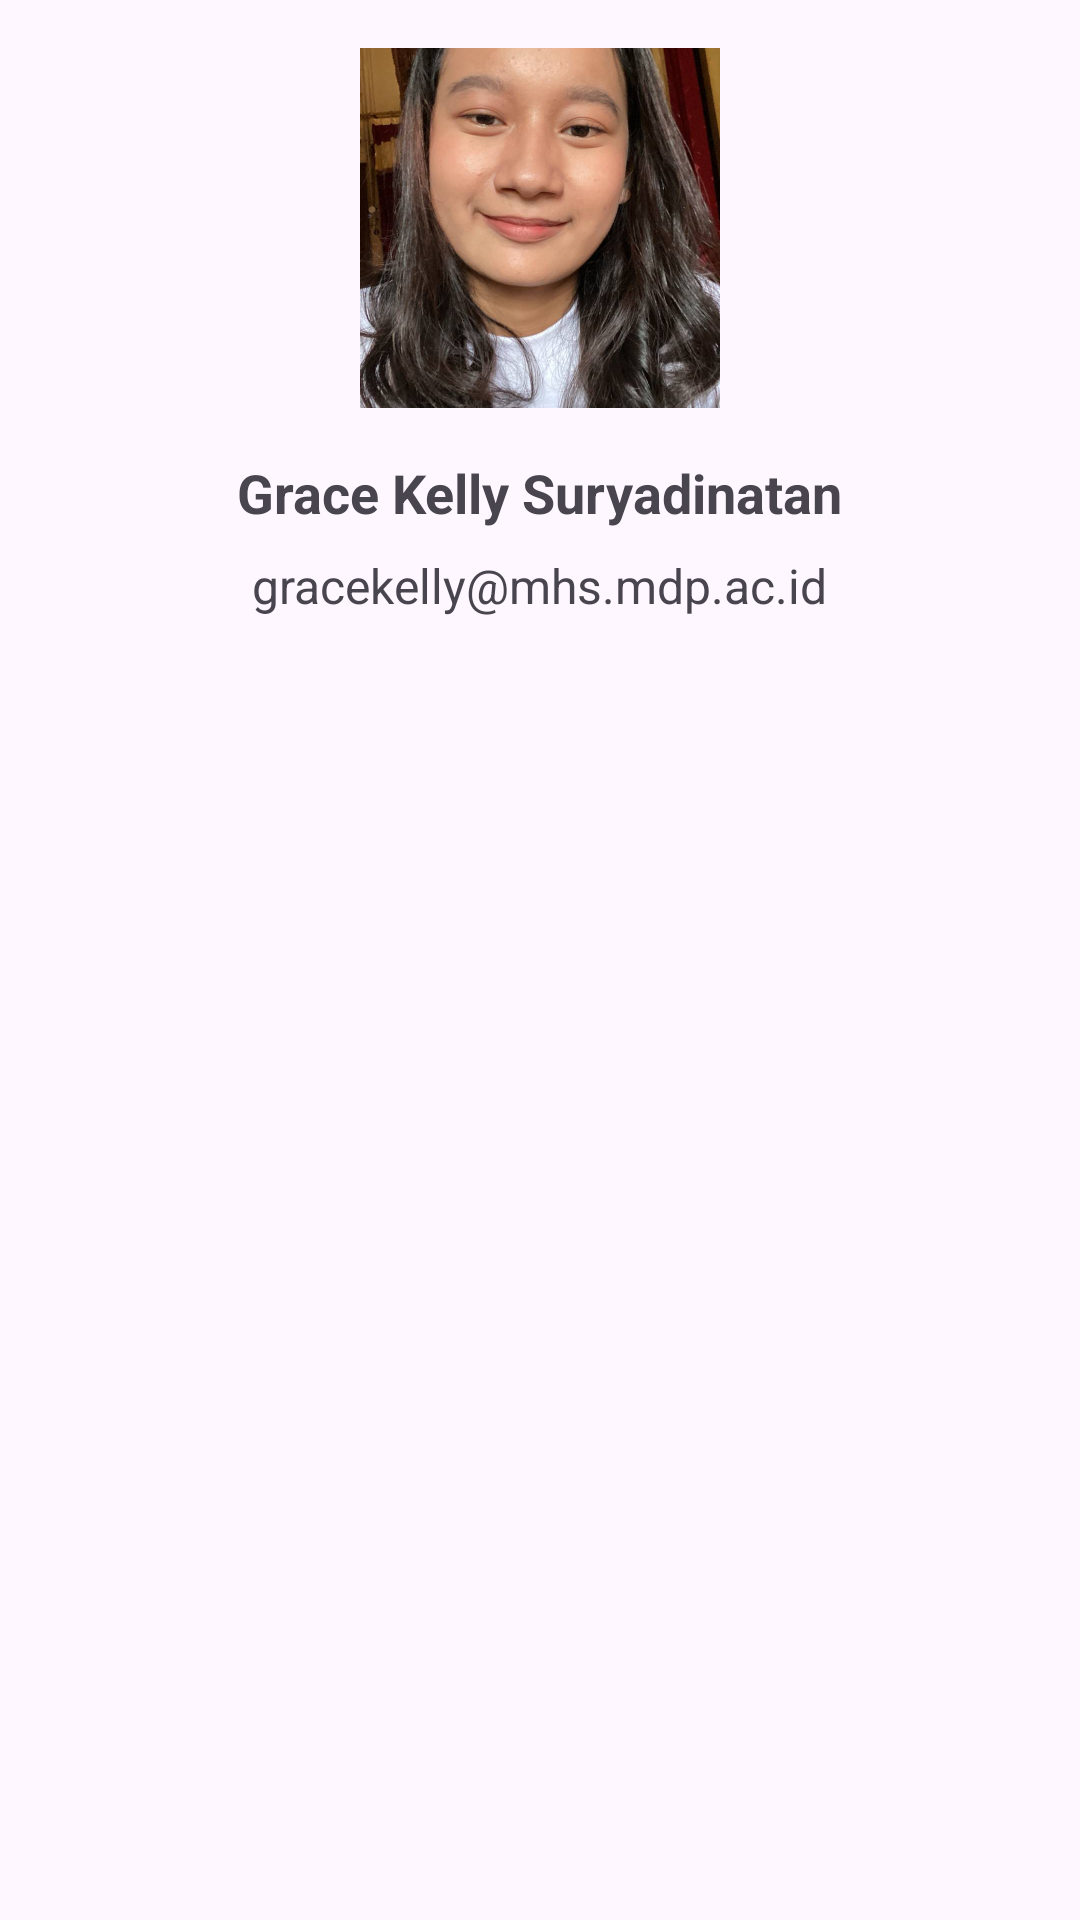

Named icons in this screenshot (1080x1920) and their bounding boxes, (x1, y1, x2, y2):
foto profile: (360, 48, 720, 408)
